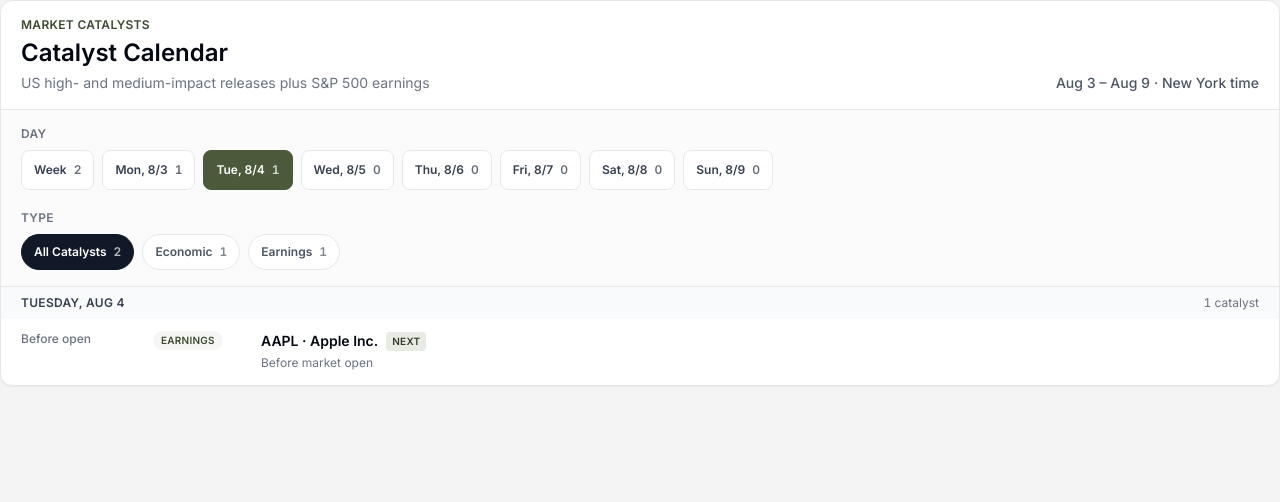
Test: CatalystCalendar › announces an empty filter result and can clear the filters
Click the button with aria-label "Wednesday" at (347, 170), box x1=300 y1=150 x2=394 y2=190
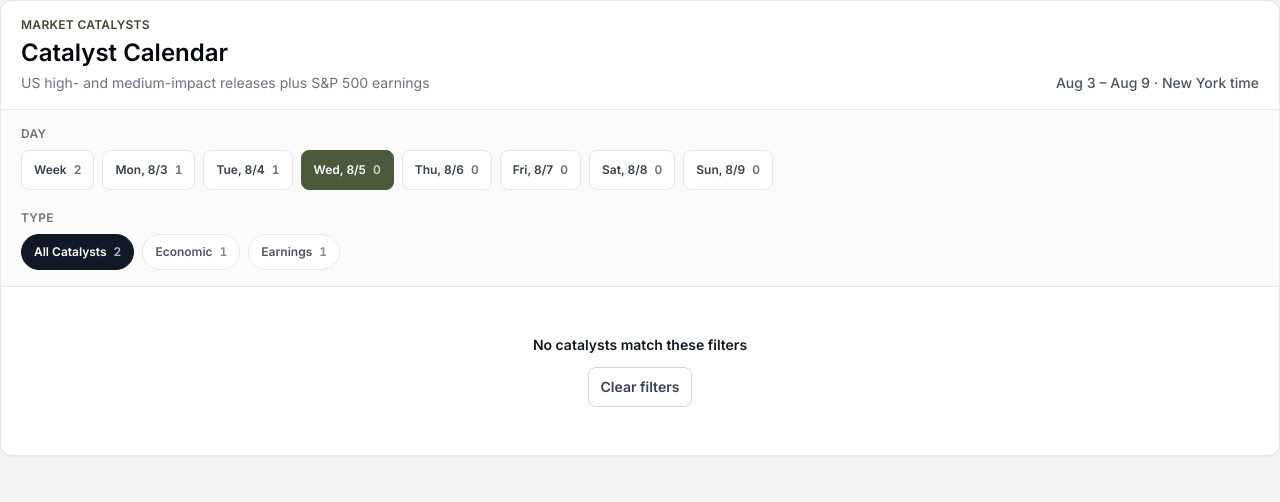
Expected: the text "No catalysts match these filters" is shown, x1=533 y1=336 x2=747 y2=353
Click the button "Clear filters" at (640, 387), box x1=588 y1=367 x2=692 y2=407
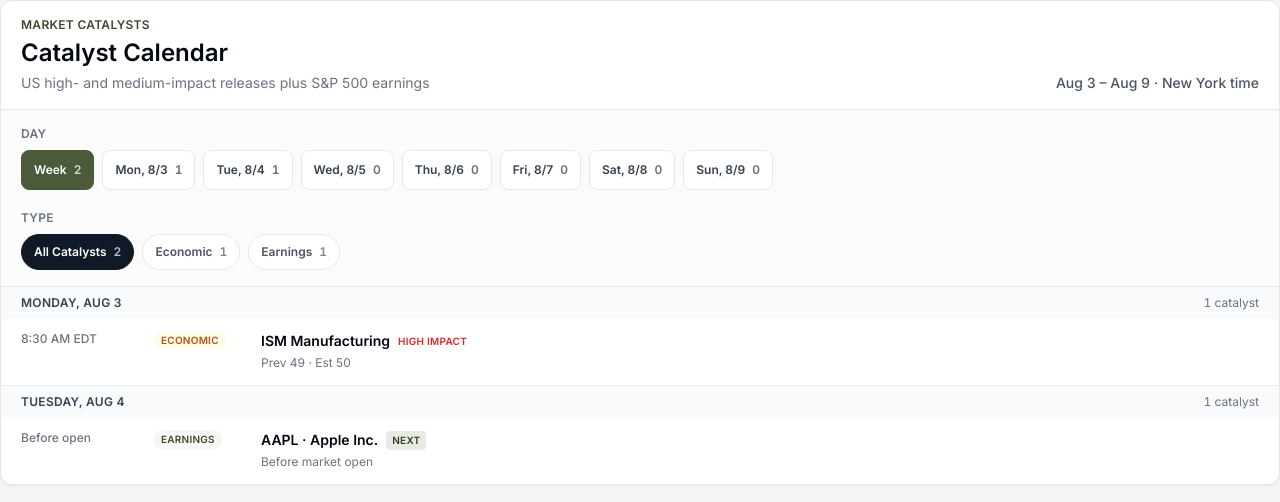
Expected: the text "ISM Manufacturing" is shown, x1=261 y1=331 x2=390 y2=351
Expected: the text "AAPL · Apple Inc." is shown, x1=261 y1=430 x2=378 y2=450
